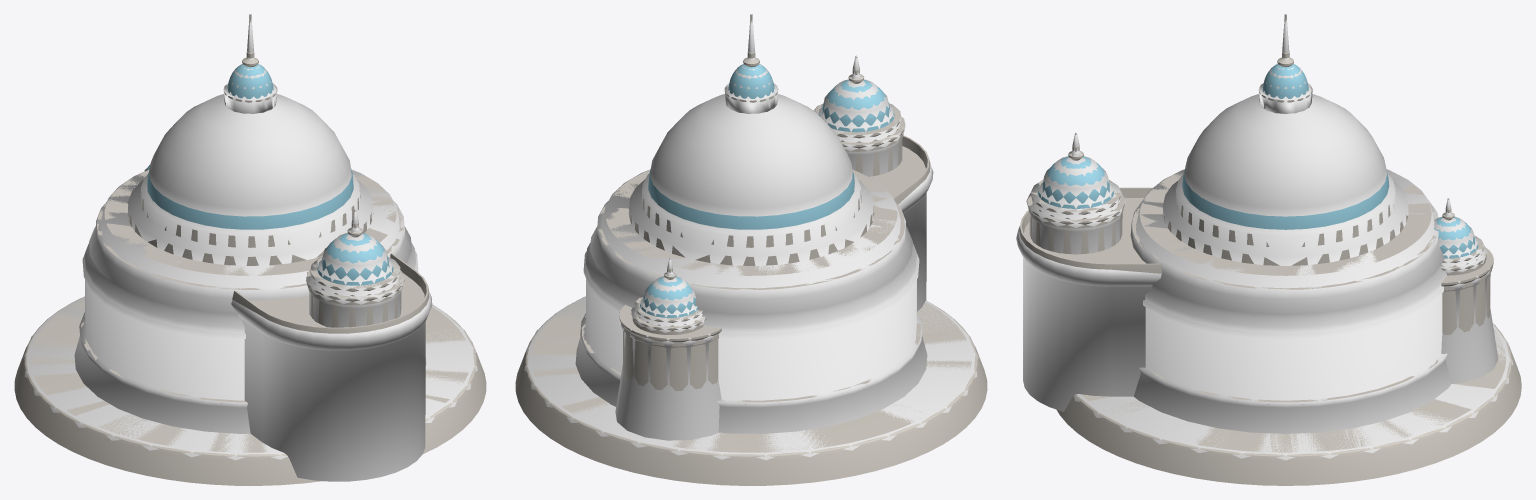
The model's file is HubMuseum_MainBuilding.dae.
3 views of the same model, side by side, from view 1: azimuth 30°, elevation 25°; view 2: azimuth 150°, elevation 25°; view 3: azimuth 270°, elevation 25° (orthographic).
Parts seen in each view (by area): view 1: Coll_MainBuilding, HubMuseum_MainBuilding; view 2: Coll_MainBuilding, HubMuseum_MainBuilding; view 3: Coll_MainBuilding, HubMuseum_MainBuilding.
Part boxes in pixels (x1,y1,x2,y2): Coll_MainBuilding: (23, 14, 477, 481); HubMuseum_MainBuilding: (14, 14, 486, 485); Coll_MainBuilding: (524, 14, 978, 460); HubMuseum_MainBuilding: (515, 14, 987, 485); Coll_MainBuilding: (1016, 14, 1513, 460); HubMuseum_MainBuilding: (1019, 14, 1521, 485).
Bounding box in the file's own units: 5509 × 5899 × 4787.
